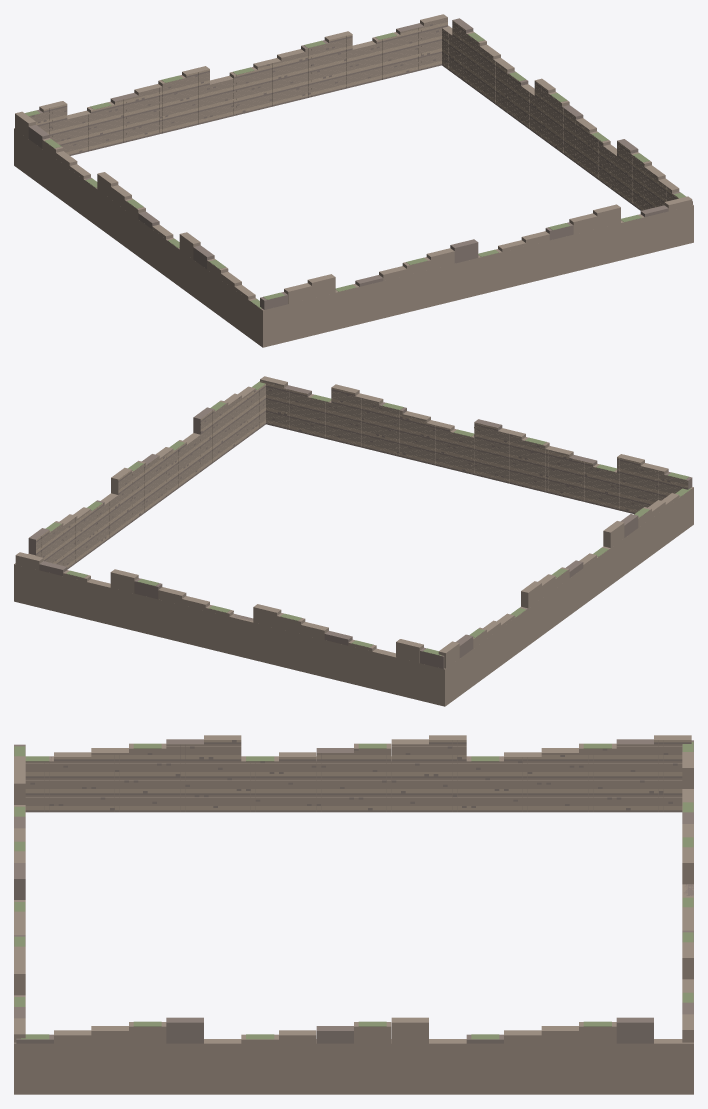
The model's file is CanyonBoundary.fbx.
The picture shows the model from 3 angles, top to bottom: view 1: azimuth 30°, elevation 25°; view 2: azimuth 150°, elevation 25°; view 3: azimuth 270°, elevation 25°; orthographic projection. The views are drawn at different scales.
Parts seen in each view (by area): view 1: CanyonBoundary; view 2: CanyonBoundary; view 3: CanyonBoundary.
Part boxes in pixels (x1,y1,x2,y2): CanyonBoundary: [14, 14, 693, 347]; CanyonBoundary: [14, 376, 693, 706]; CanyonBoundary: [14, 735, 693, 1094].
Size of the model in its own units: 290 by 34 by 290.
